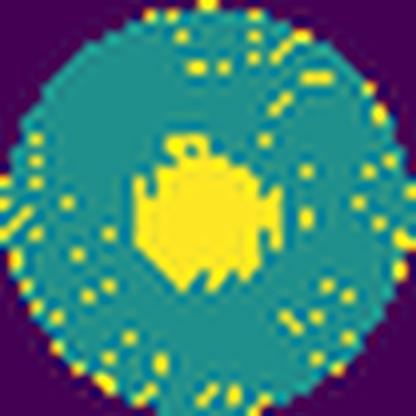Center: (134, 130, 283, 296)
